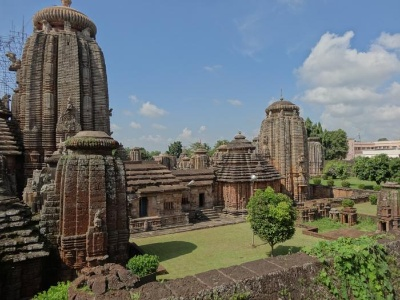amalaka: (24, 1, 111, 43), (56, 125, 130, 156), (255, 96, 310, 123)
gopuram: (14, 30, 121, 135), (252, 113, 320, 194)
